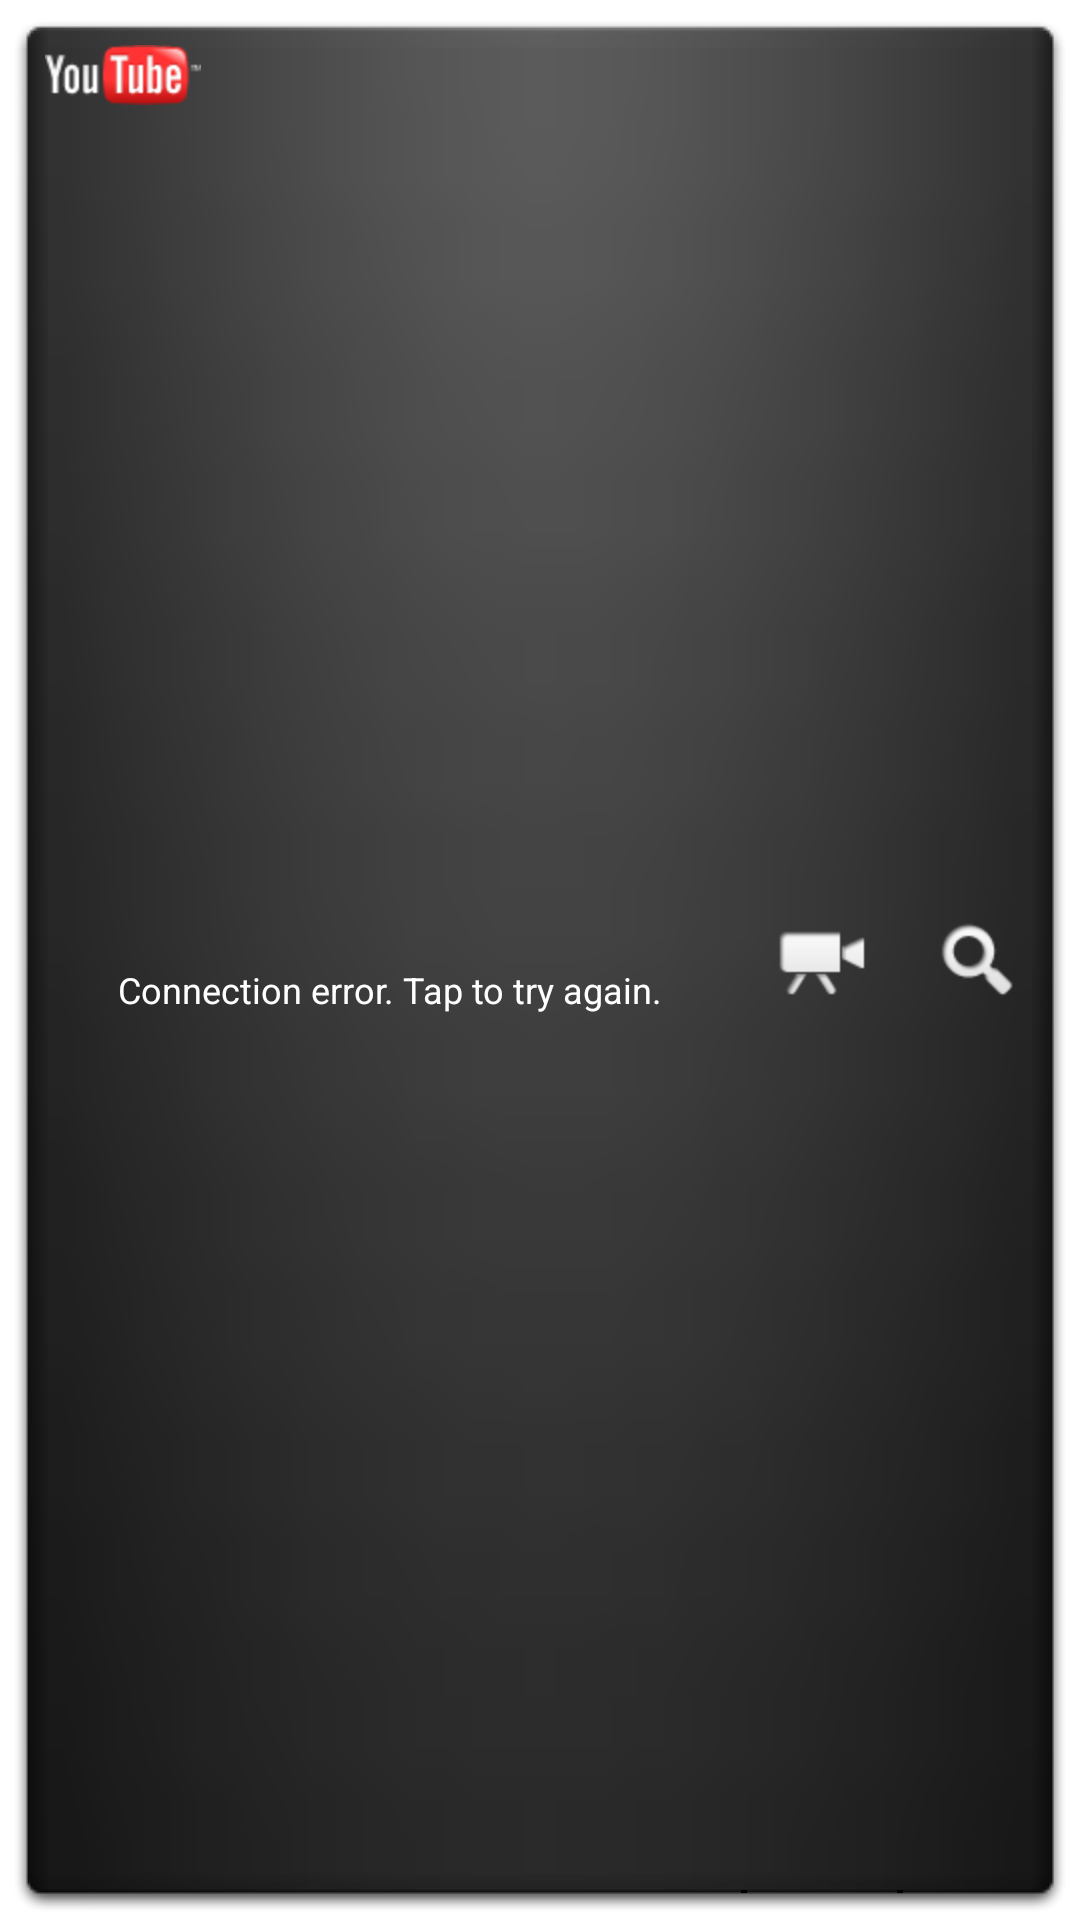

Screen size 1080*1920. Icon name, then its box in pixels as detection(x1, y1, x2, y2):
yt widget camera: detection(779, 932, 865, 995)
yt widget search: detection(942, 924, 1012, 995)
